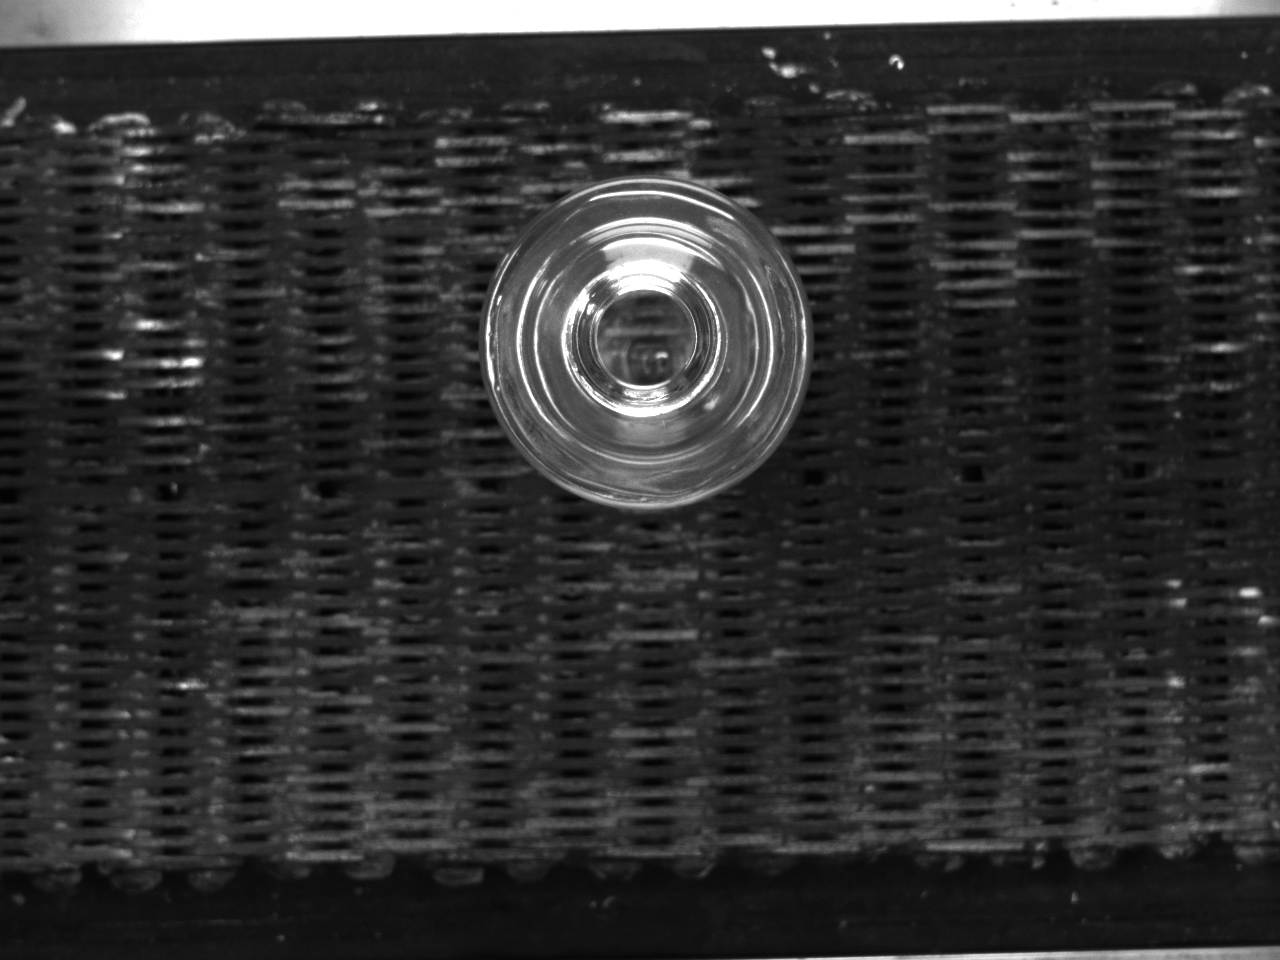bottleneck: (562, 259, 723, 418)
